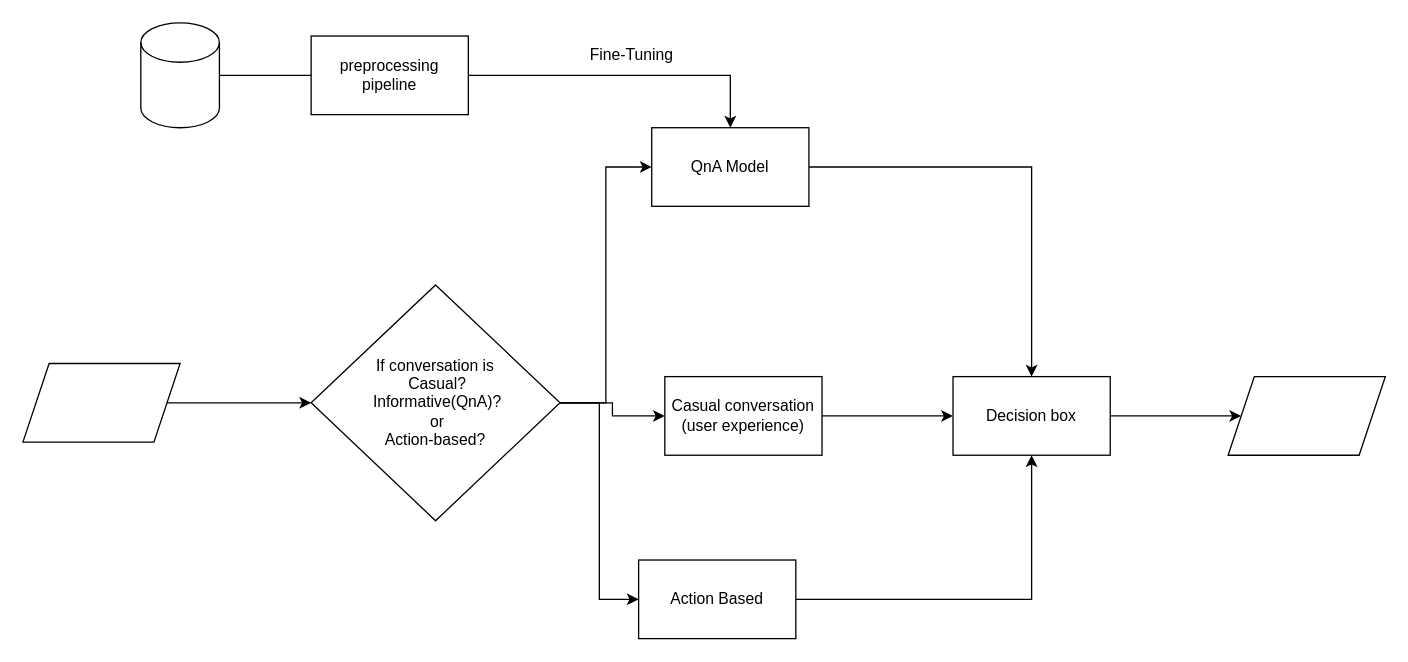
Some shapes in this 1408 by 662 pixel diagram are drawn without their labels. Here are the shapes that lost their labels. From the top down, the box of each, then its label:
(140, 22, 219, 128): PDF, doc, links
(22, 362, 180, 442): Input
(1227, 375, 1385, 455): Output
